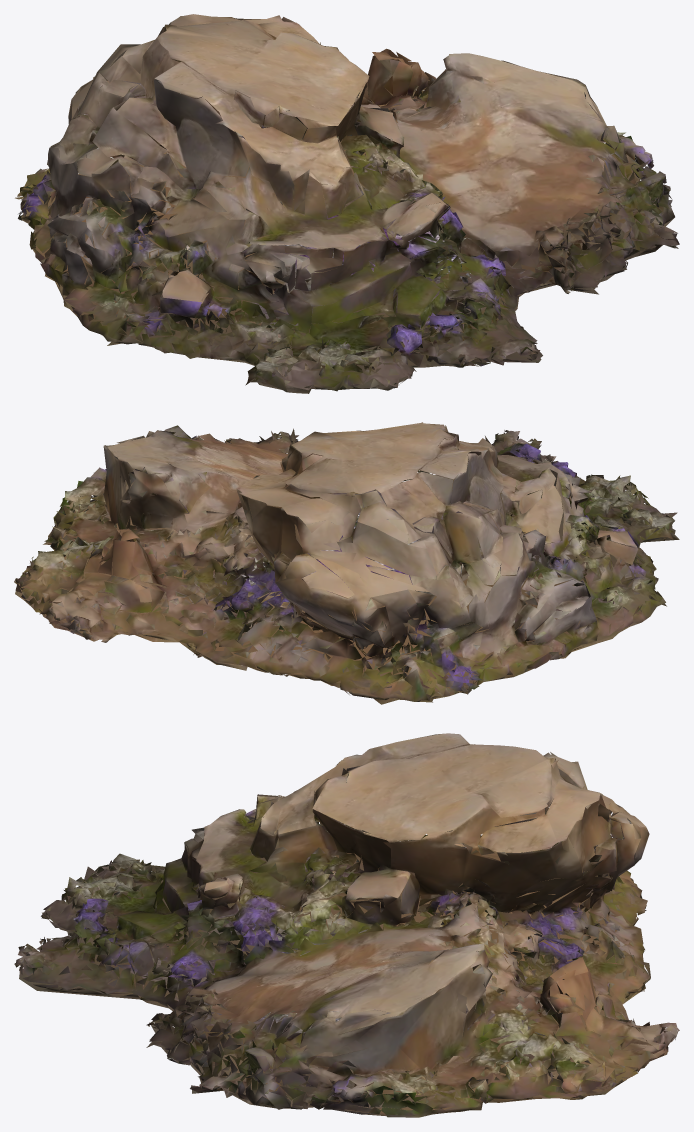
Rendered from Meadow_Rocks_town.glb.
3 renders of one model, top to bottom at view 1: azimuth 30°, elevation 25°; view 2: azimuth 150°, elevation 25°; view 3: azimuth 270°, elevation 25°, orthographic. The views are drawn at different scales.
Visible parts, largest first — view 1: Meadow_Rocks; view 2: Meadow_Rocks; view 3: Meadow_Rocks.
Part boxes in pixels (left/top/right/bottom): Meadow_Rocks: left=15, top=14, right=679, bottom=393; Meadow_Rocks: left=14, top=422, right=679, bottom=704; Meadow_Rocks: left=14, top=733, right=679, bottom=1117.
Bounding box in the file's own units: 1.99 × 0.5832 × 1.97.
1 material, 1 textured.
